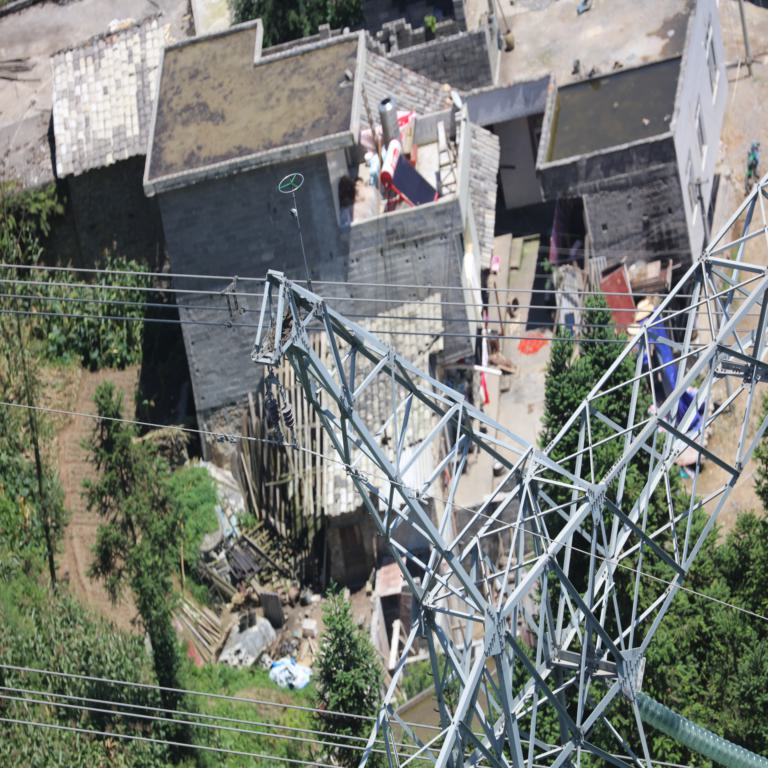nest: (262, 318, 292, 351)
